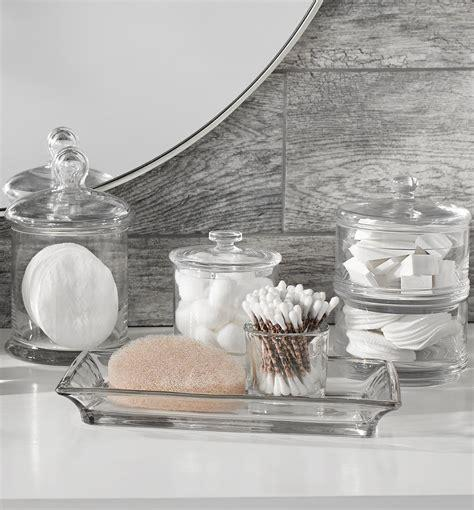cotton: (22, 245, 119, 350), (173, 267, 271, 354)
